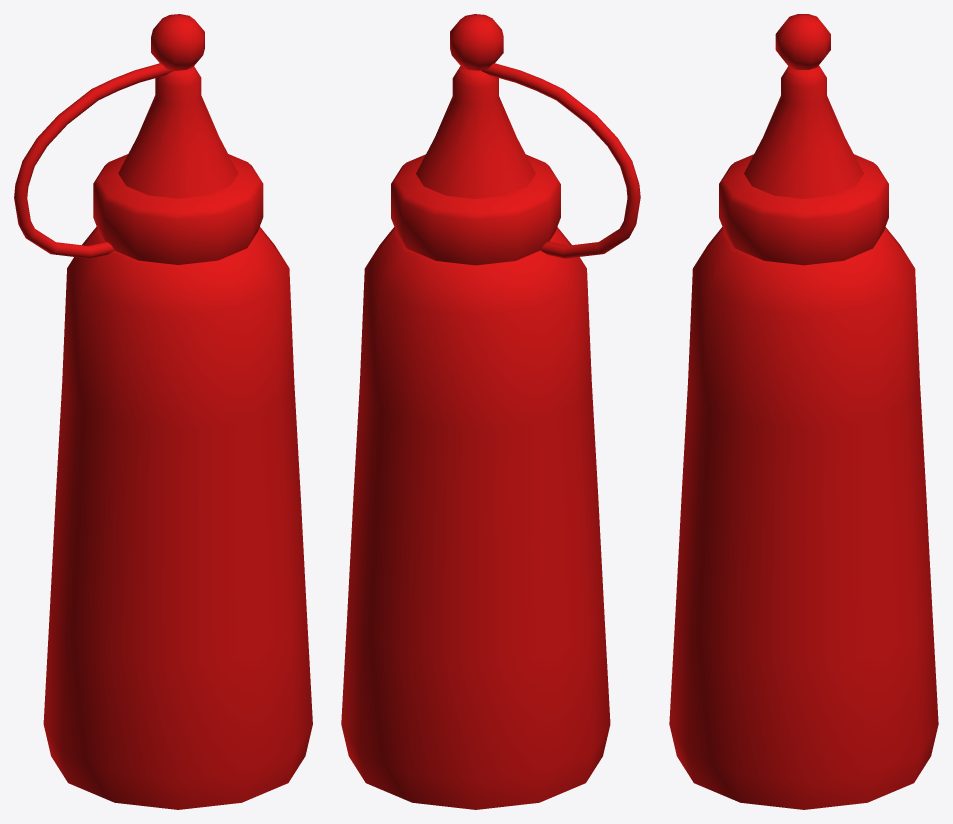
Rendered from red_sauce.FBX.
3 views of the same model, side by side, from view 1: azimuth 30°, elevation 25°; view 2: azimuth 150°, elevation 25°; view 3: azimuth 270°, elevation 25° (orthographic).
Visible parts, largest first — view 1: red_sauce; view 2: red_sauce; view 3: red_sauce.
Part boxes in pixels (x1,y1,x2,y2): red_sauce: (14,14,312,809); red_sauce: (341,14,640,809); red_sauce: (669,14,938,809).
Size of the model in its own units: 13.41 by 33.84 by 11.16.
